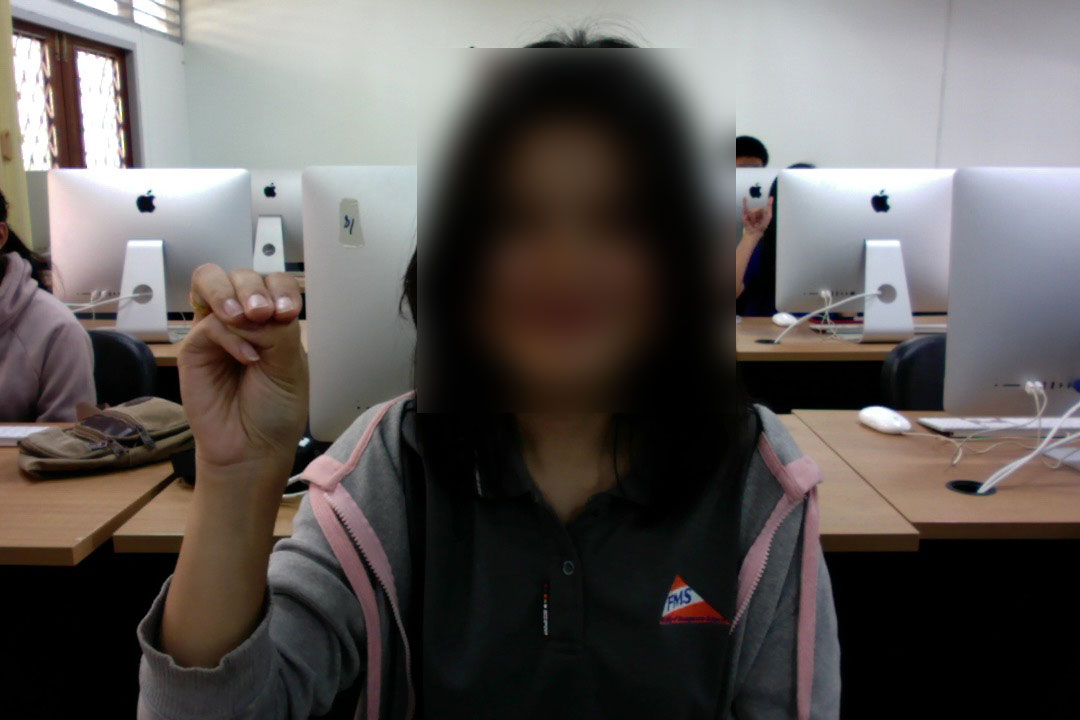mor: (168, 252, 319, 488)
